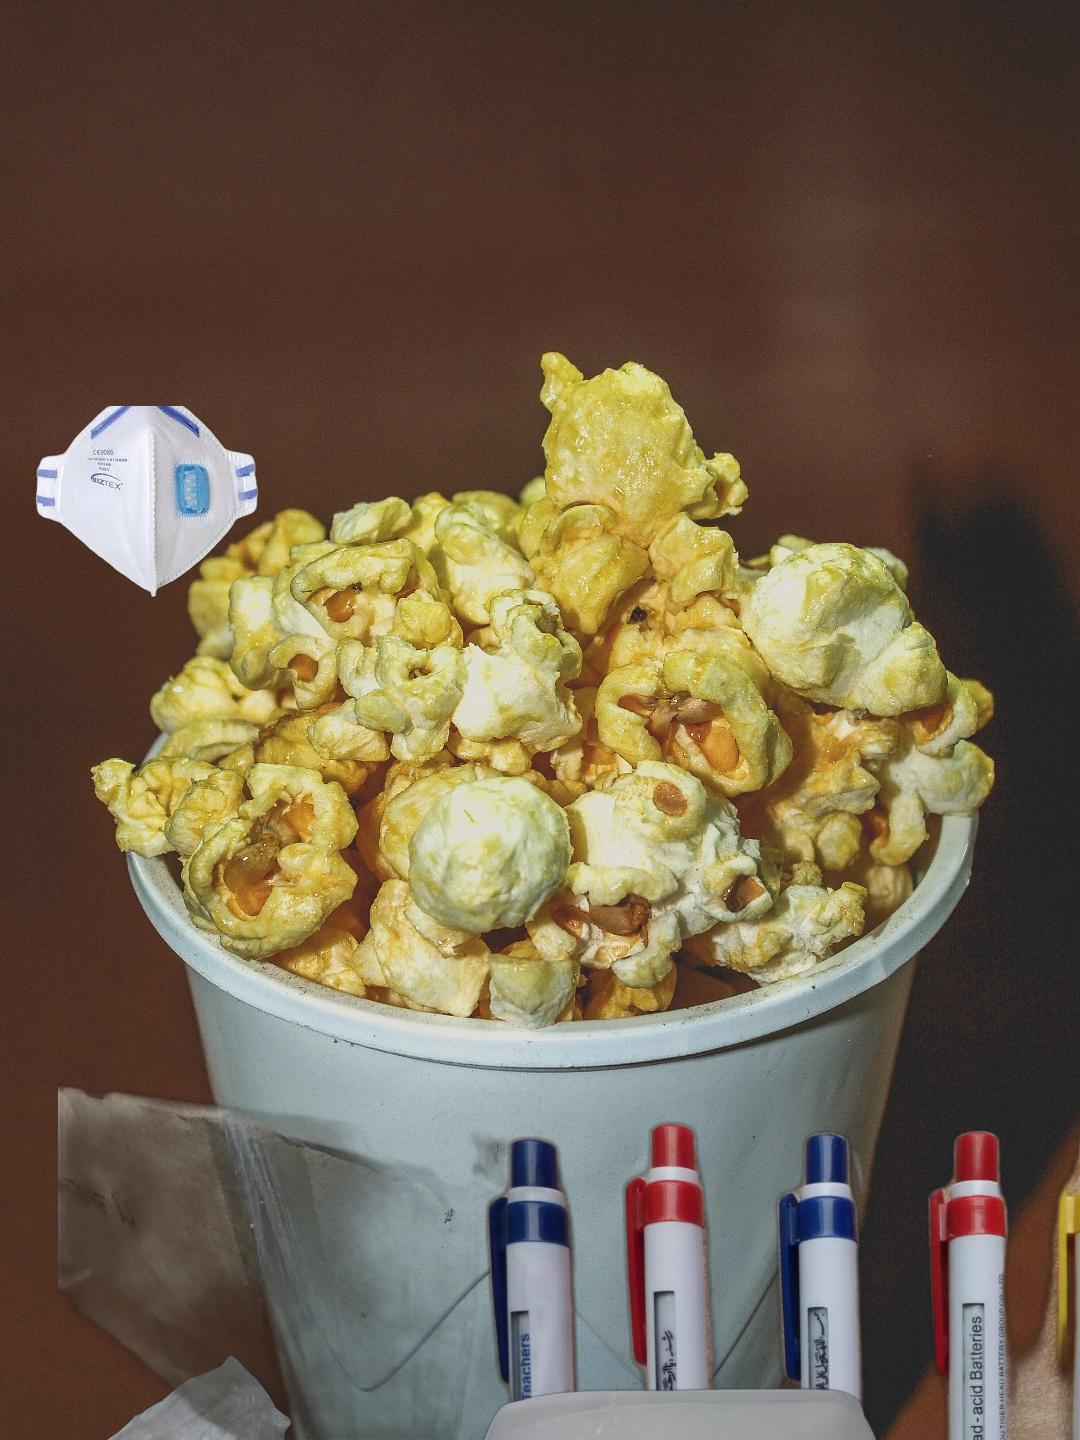penholder: (479, 1117, 1080, 1440)
plastic-bag: (35, 1268, 335, 1440)
plastic-bottles: (442, 1384, 884, 1440)
trash: (34, 406, 259, 600)
trashbox-cardboard: (58, 1056, 569, 1440)
